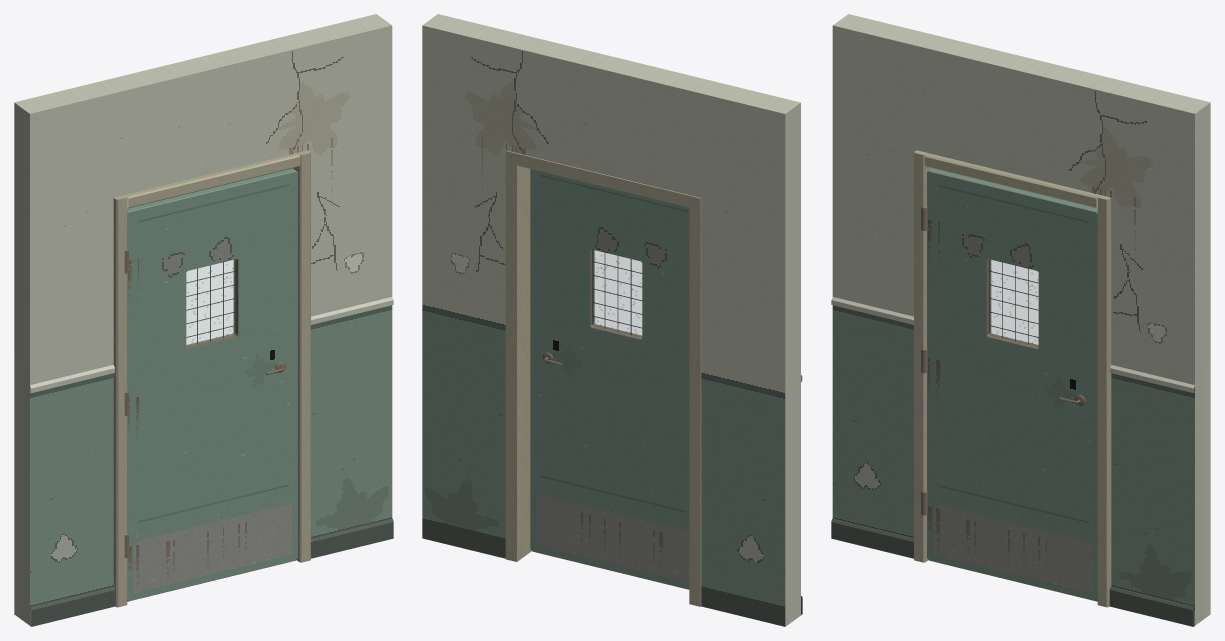
Rendered from door_3a.glb.
3 views of the same model, side by side, from view 1: azimuth 30°, elevation 25°; view 2: azimuth 150°, elevation 25°; view 3: azimuth 330°, elevation 25° (orthographic).
Parts seen in each view (by area): view 1: leaf_faces, wall_left, wall_right, wall_lintel, frame_left, frame_right, door_glass, frame_top, leaf_edge, leaf_window_rim; view 2: leaf_faces, wall_left, wall_right, wall_lintel, frame_right, frame_left, door_glass, frame_top, leaf_window_rim, leaf_edge; view 3: leaf_faces, wall_right, wall_left, wall_lintel, frame_right, frame_left, door_glass, frame_top, leaf_edge, leaf_window_rim.
Part boxes in pixels (bbox=[...]): leaf_faces: bbox=[127, 171, 297, 600]; wall_left: bbox=[14, 81, 115, 626]; wall_right: bbox=[291, 14, 393, 558]; wall_lintel: bbox=[100, 35, 305, 196]; frame_left: bbox=[113, 195, 127, 607]; frame_right: bbox=[293, 150, 310, 562]; door_glass: bbox=[186, 259, 235, 346]; frame_top: bbox=[125, 153, 300, 208]; leaf_edge: bbox=[127, 168, 297, 601]; leaf_window_rim: bbox=[186, 259, 238, 348]; leaf_faces: bbox=[530, 169, 689, 589]; wall_left: bbox=[699, 81, 802, 626]; wall_right: bbox=[422, 14, 523, 558]; wall_lintel: bbox=[508, 35, 714, 197]; frame_right: bbox=[505, 150, 531, 561]; frame_left: bbox=[689, 195, 701, 606]; door_glass: bbox=[592, 249, 642, 337]; frame_top: bbox=[517, 153, 689, 207]; leaf_window_rim: bbox=[590, 249, 642, 339]; leaf_edge: bbox=[530, 169, 688, 589]; leaf_faces: bbox=[927, 171, 1097, 600]; wall_right: bbox=[1109, 81, 1210, 626]; wall_left: bbox=[831, 14, 933, 558]; wall_lintel: bbox=[919, 35, 1124, 196]; frame_right: bbox=[1097, 195, 1111, 607]; frame_left: bbox=[914, 150, 931, 562]; door_glass: bbox=[989, 259, 1038, 346]; frame_top: bbox=[924, 153, 1099, 208]; leaf_edge: bbox=[927, 168, 1097, 601]; leaf_window_rim: bbox=[986, 259, 1038, 348].
Size of the model in its own units: 2 by 2.7 by 0.2094.
2 materials, 2 textured.
